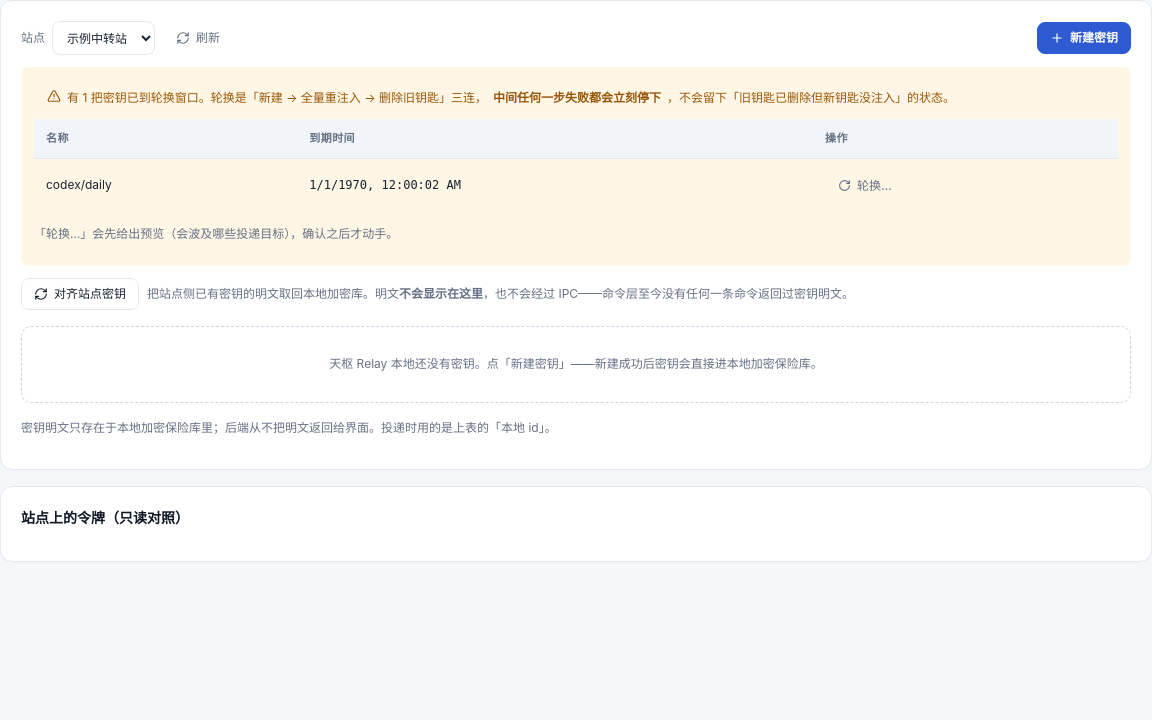
M20-S1 轮换继承分组 › 旧 key 没有分组 ⇒ 不显示那一行（不误导用户）
Click the button "轮换…".
click(865, 186)  # box [825, 170, 905, 202]
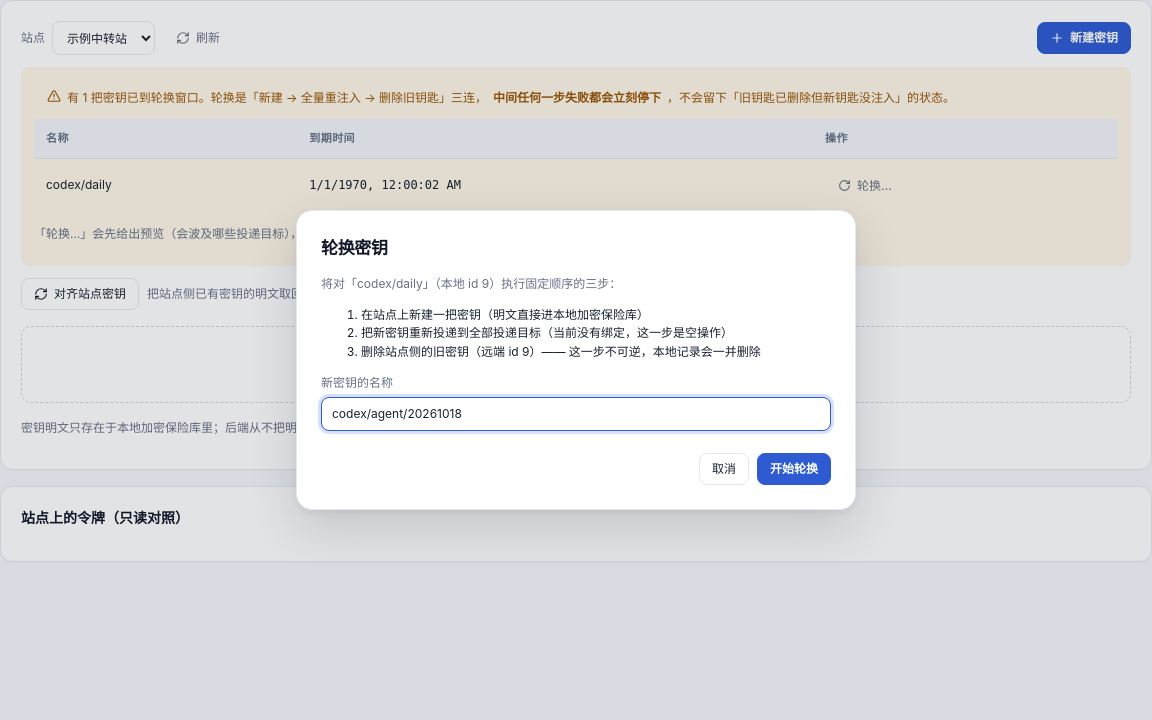
Result: the list item "在站点上新建一把密钥（明文直接进本地加密保险库）" is shown at [361, 307, 649, 322]
